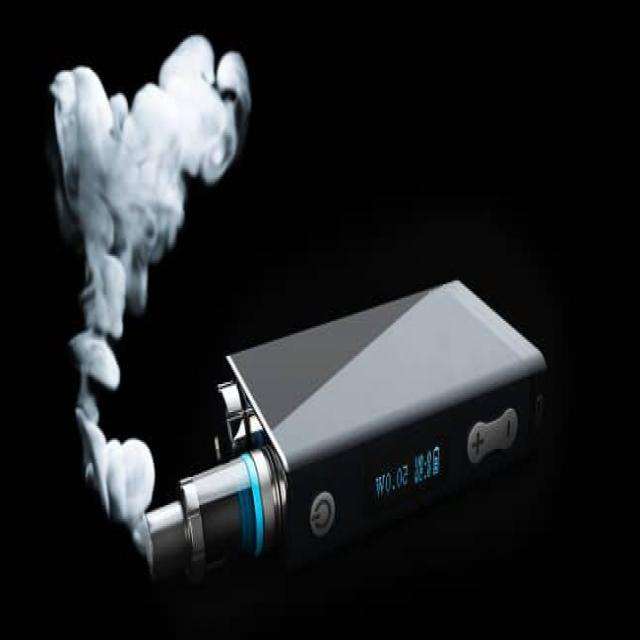Cigarette: (143, 274, 548, 581)
